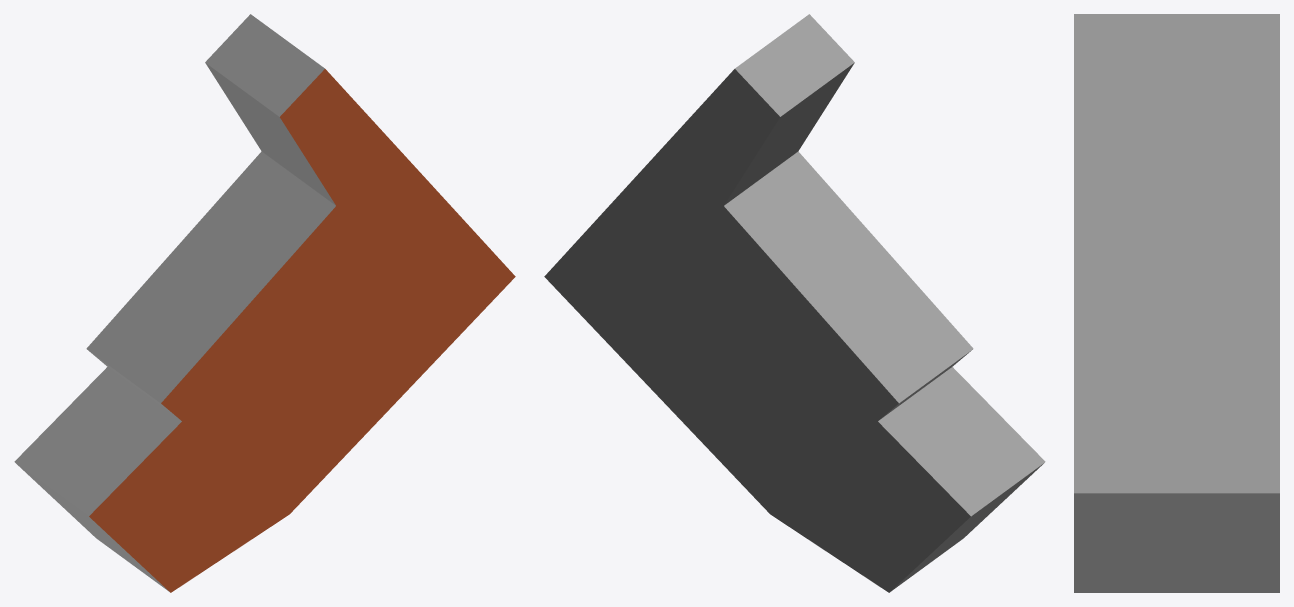
File: construction_5621_assumed_A_Casa_h6m.obj
3 views of the same model, side by side, from view 1: azimuth 30°, elevation 25°; view 2: azimuth 150°, elevation 25°; view 3: azimuth 270°, elevation 25° (orthographic). The views are drawn at different scales.
Parts seen in each view (by area): view 1: construction_5621_assumed_A_Casa; view 2: construction_5621_assumed_A_Casa; view 3: construction_5621_assumed_A_Casa.
Part boxes in pixels (x1,y1,x2,y2): construction_5621_assumed_A_Casa: [14, 14, 515, 592]; construction_5621_assumed_A_Casa: [544, 14, 1045, 592]; construction_5621_assumed_A_Casa: [1074, 14, 1279, 592].
Size of the model in its own units: 19.81 by 21.58 by 6.
